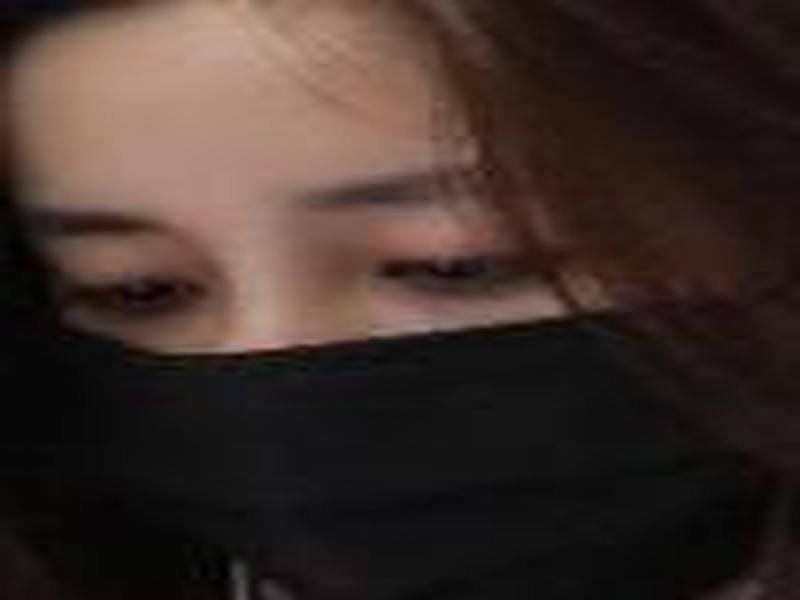with_mask: (1, 1, 796, 595)
